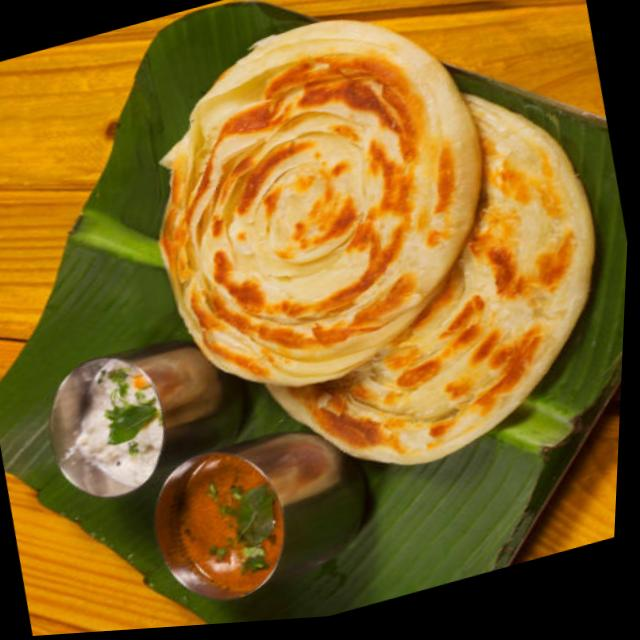CURD: (71, 359, 162, 487)
CURRY: (169, 453, 283, 593)
PAROTTA: (159, 18, 592, 463)
